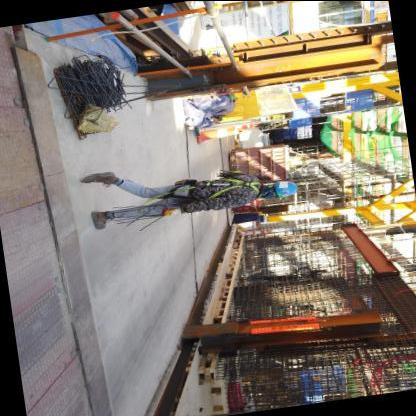Helmet: (269, 174, 301, 203)
safety-shoe: (79, 169, 116, 192), (87, 206, 115, 232)
